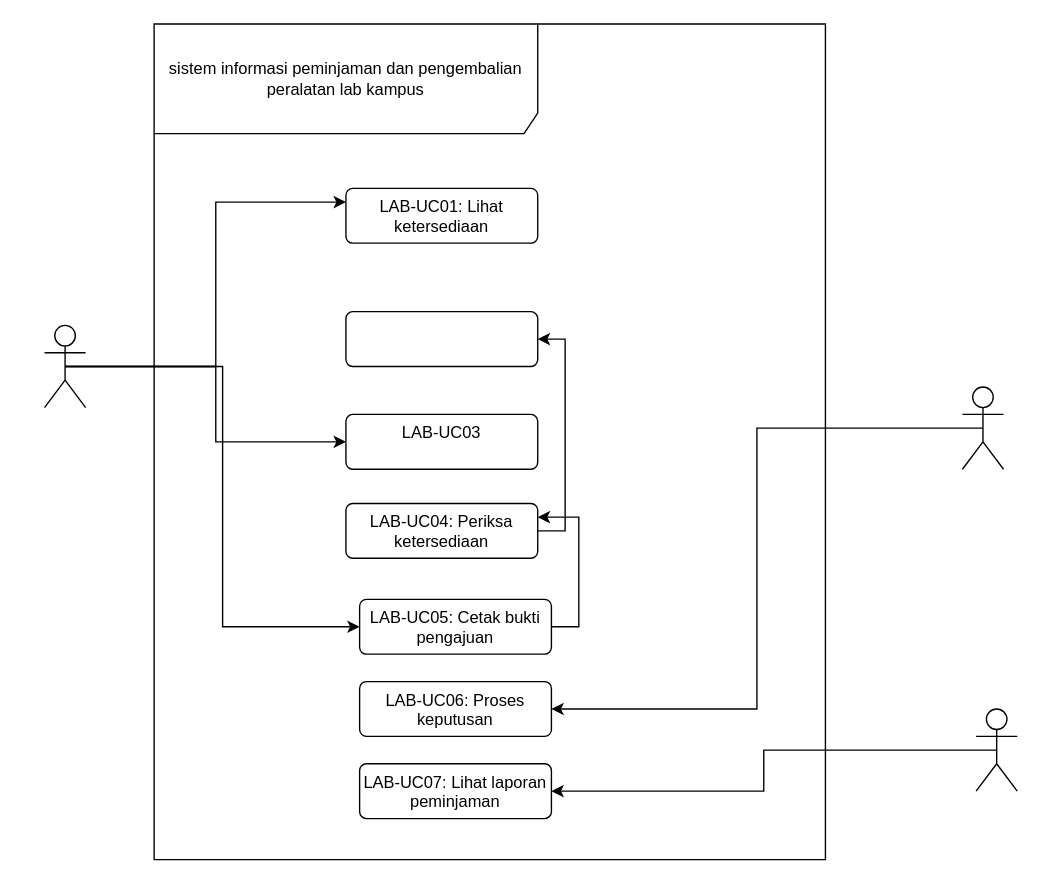
Some shapes in this 1058 by 884 pixel diagram are drawn without their labels. Each missing label, with the centre of its shape:
"kepala lab" goes at (996,749).
"LAB-UC02: Kelola data peralatan" goes at (441,338).
"mahasiswa" goes at (64,366).
"petugas lab" goes at (982,427).
